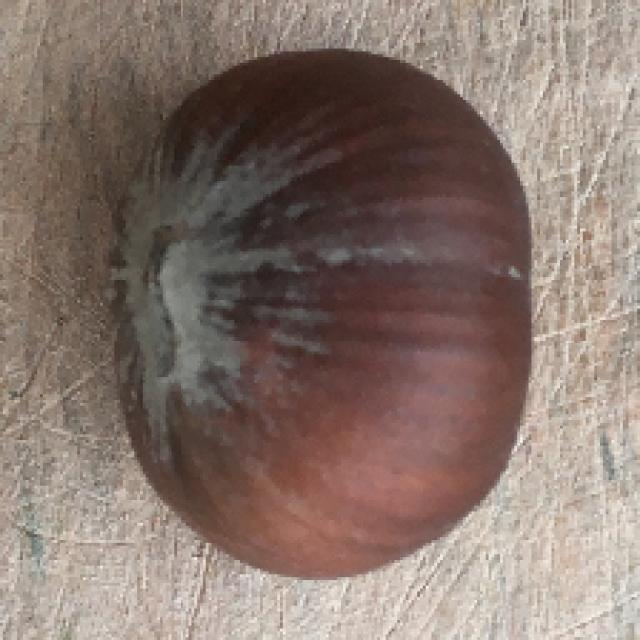qualityHazelnut: (126, 47, 534, 574)
